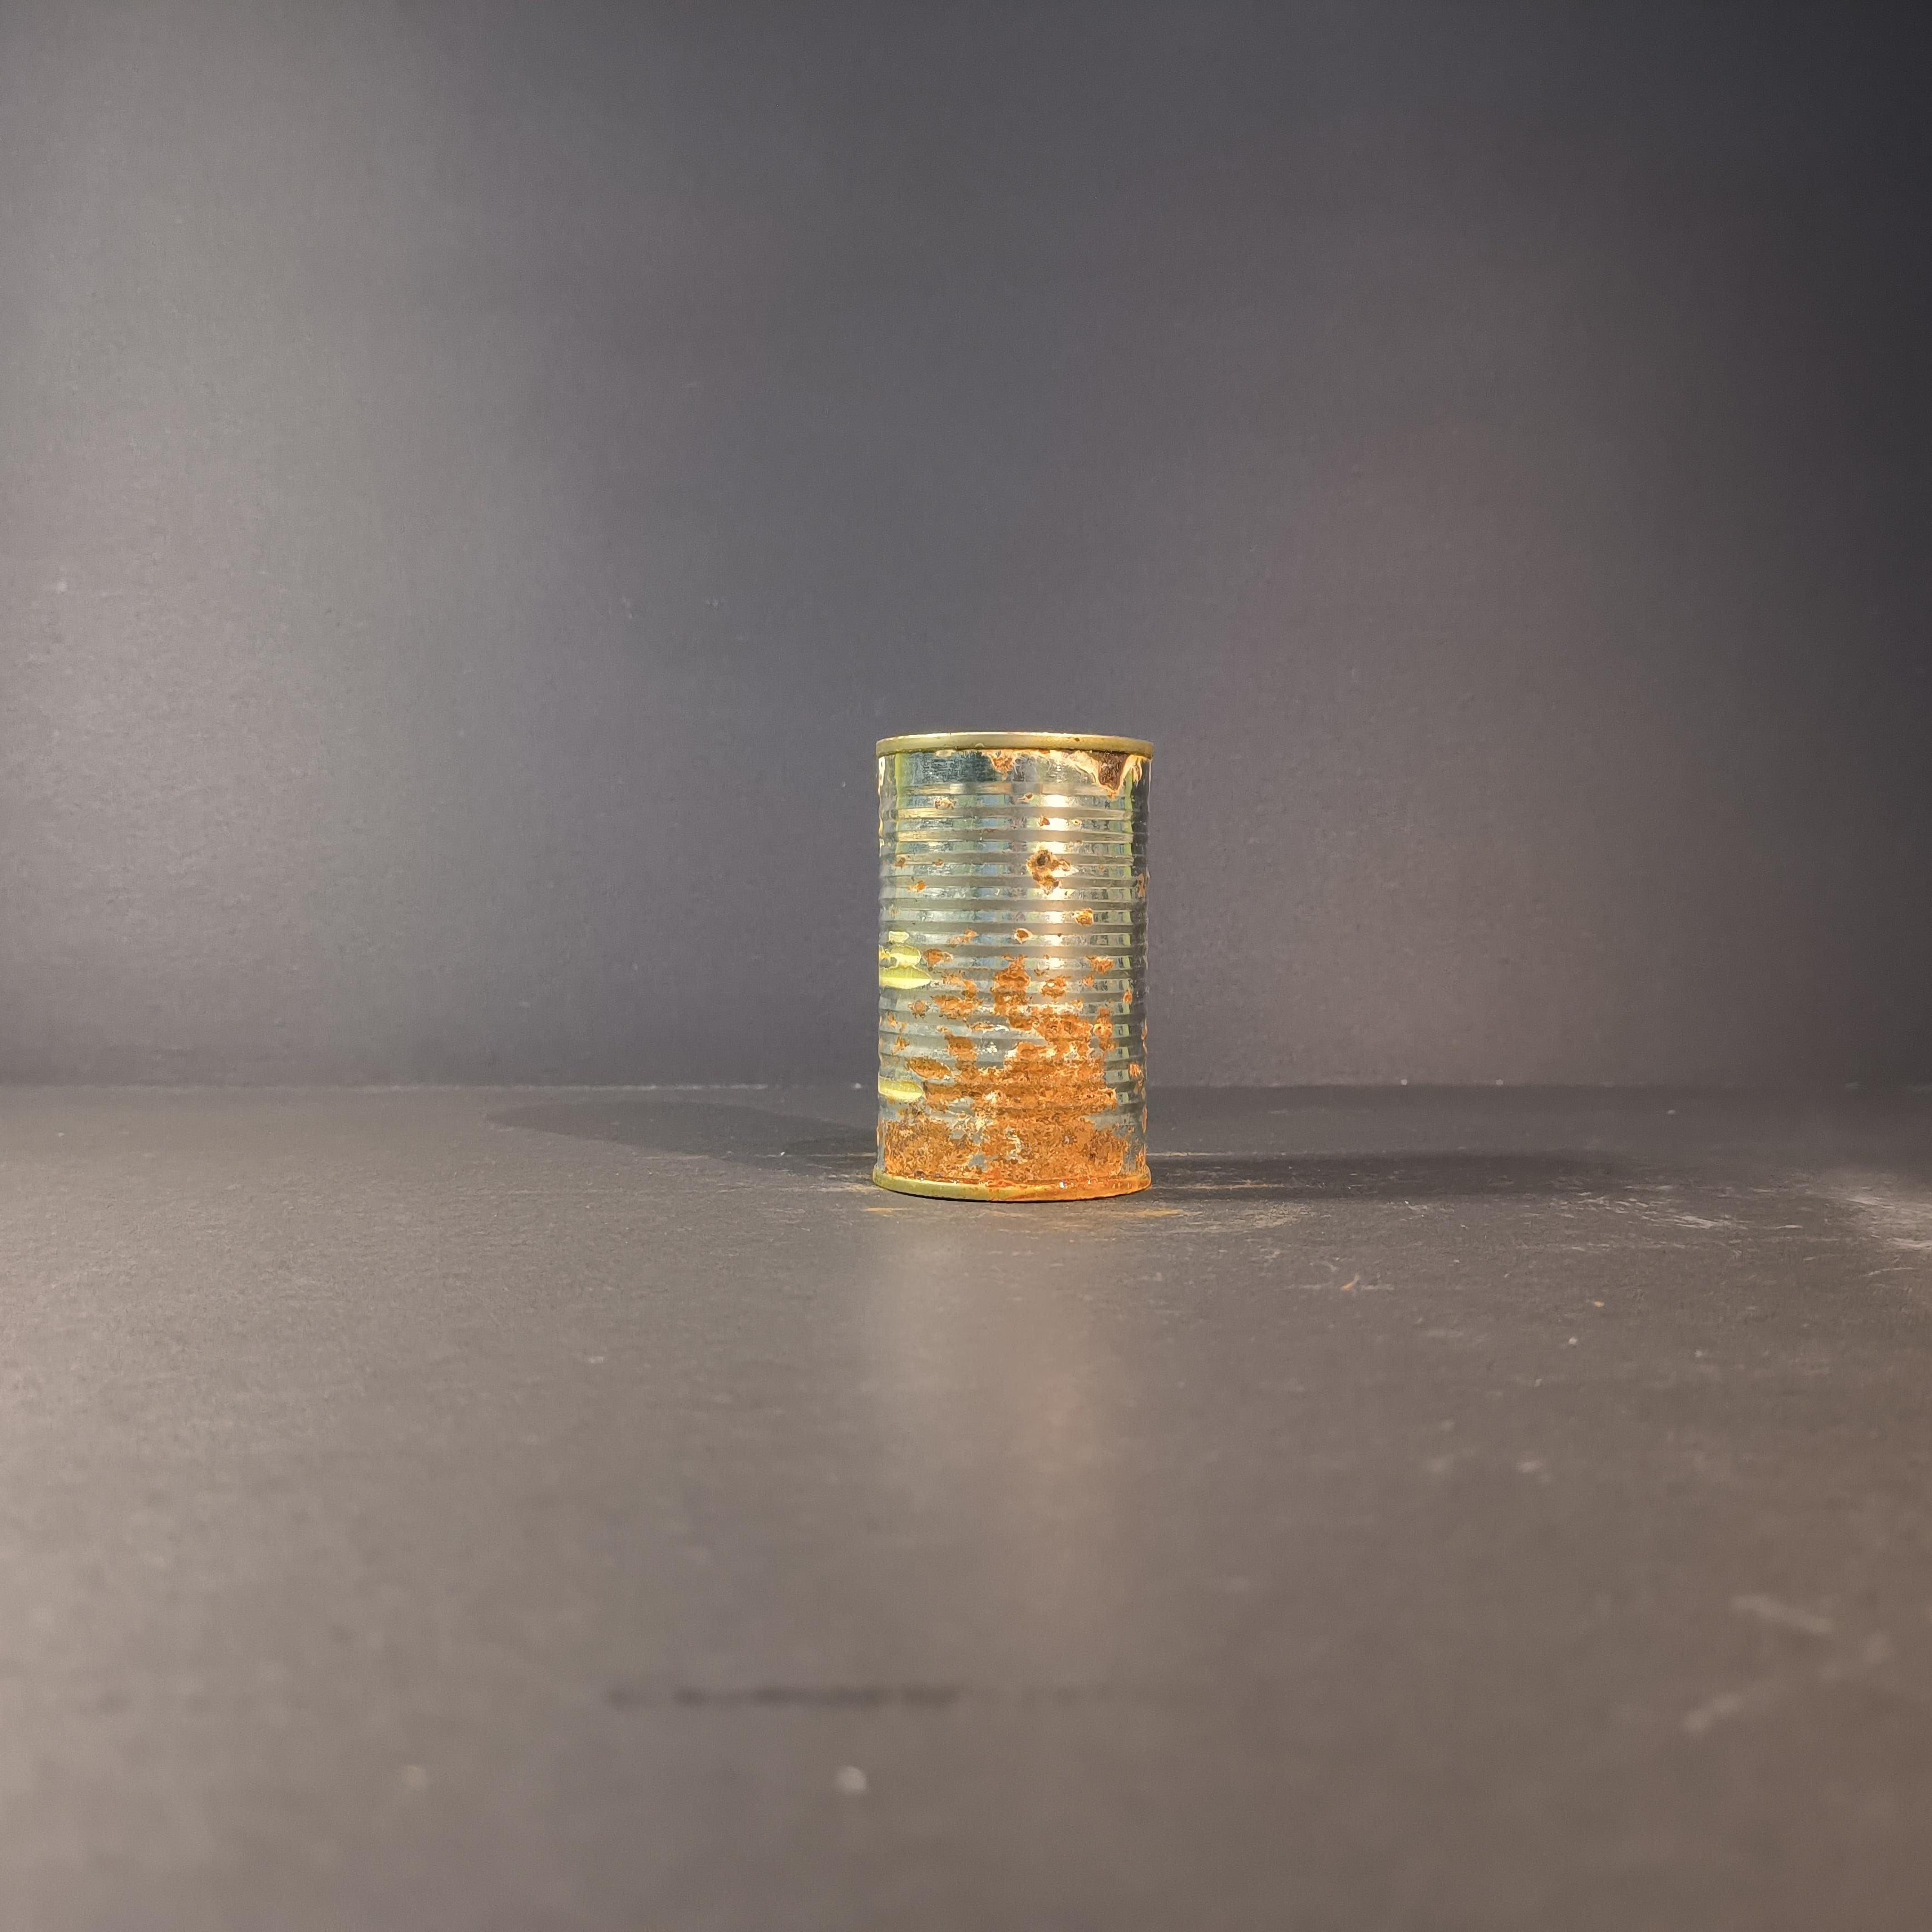Rusted: (855, 706, 1180, 1228)
